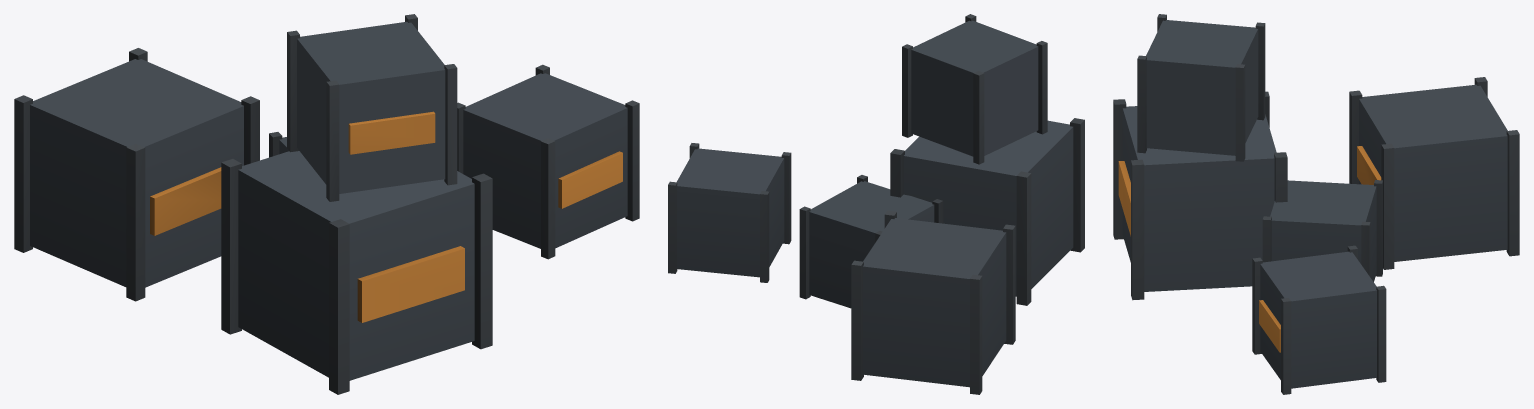
Rendered from obj_cajas_2.glb.
3 renders of one model, left to right at view 1: azimuth 30°, elevation 25°; view 2: azimuth 150°, elevation 25°; view 3: azimuth 270°, elevation 25°, orthographic. The views are drawn at different scales.
Parts seen in each view (by area): view 1: propforge-libre-cajas; view 2: propforge-libre-cajas; view 3: propforge-libre-cajas.
Part boxes in pixels (<box>): propforge-libre-cajas: <box>14,14,639,394</box>; propforge-libre-cajas: <box>668,14,1084,394</box>; propforge-libre-cajas: <box>1113,14,1519,394</box>.
Bounding box in the file's own units: 1.51 × 0.8179 × 1.32.
